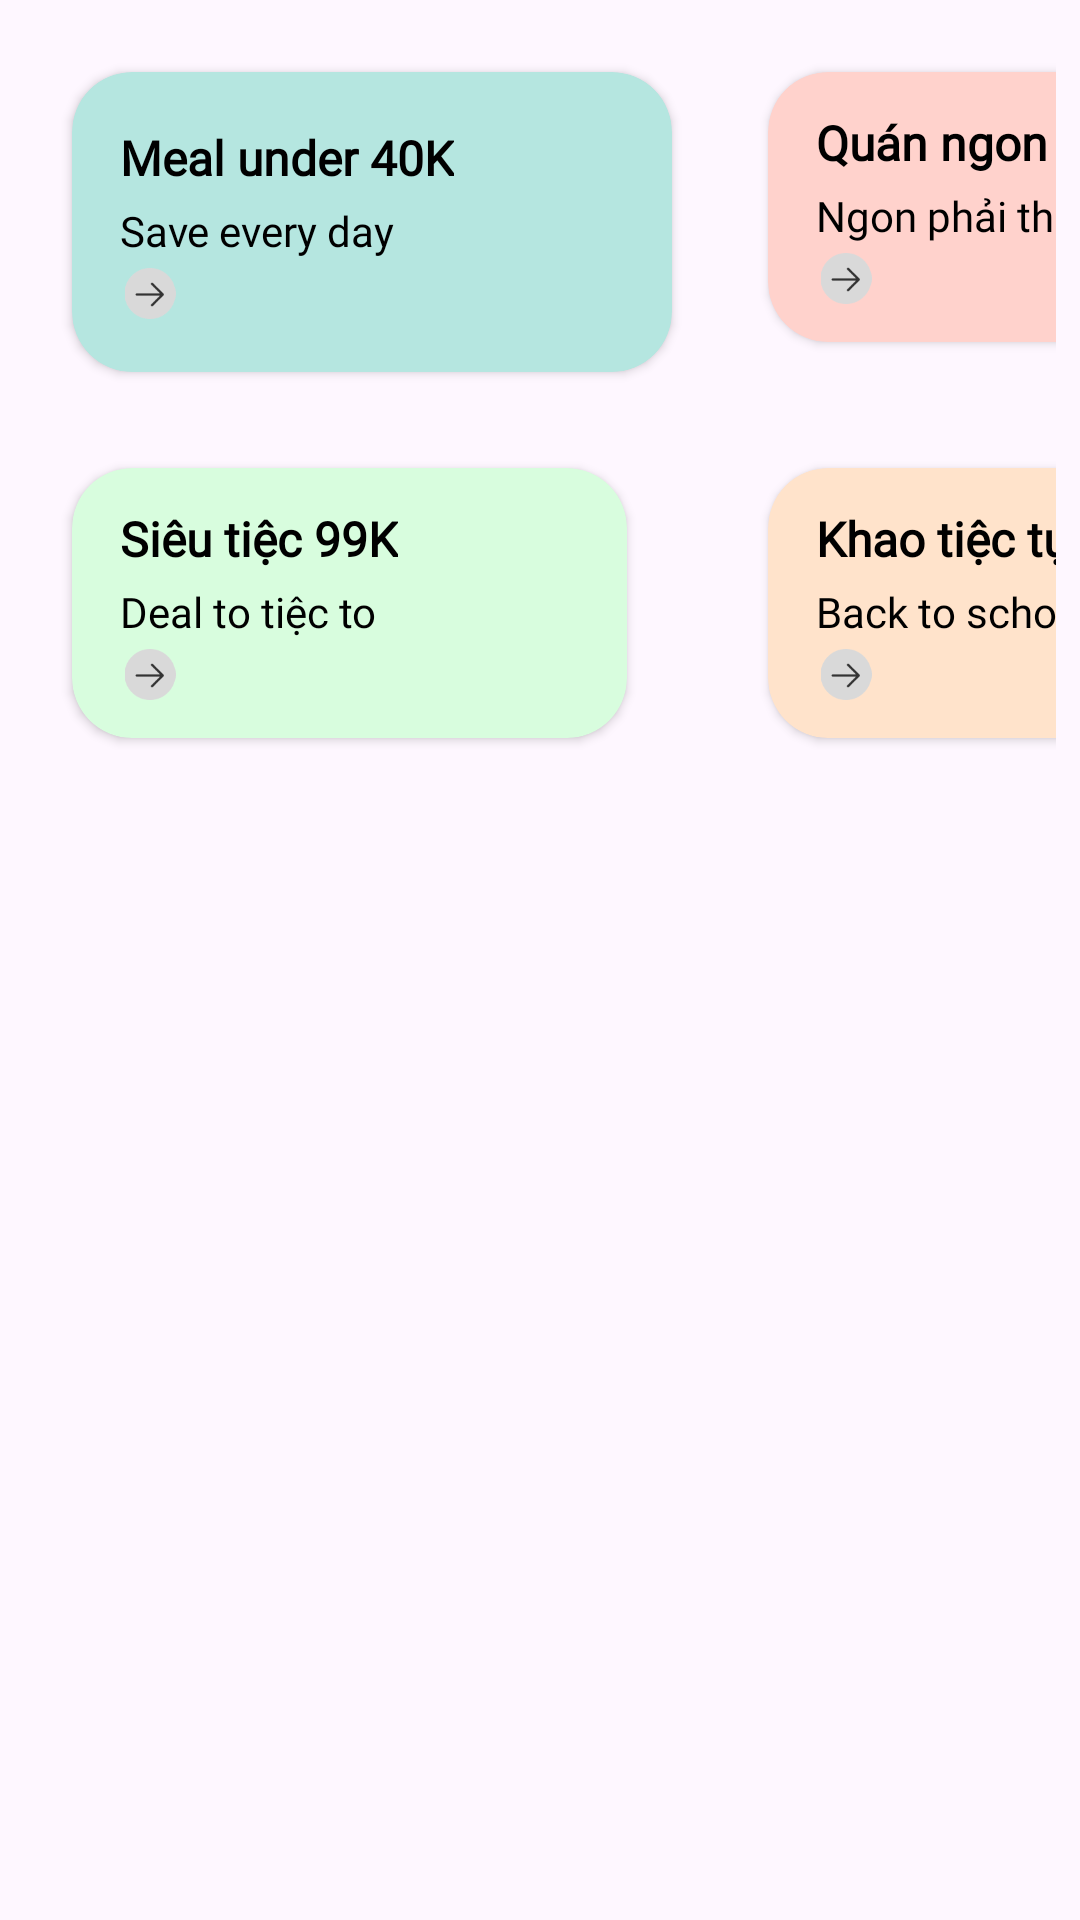

Screen size 1080x1920. Icon name, then its box in pixels as box(x1, y1, x2, y2):
arrow: box(821, 253, 872, 304), box(125, 268, 176, 319), box(125, 649, 176, 700), box(821, 649, 872, 700)
